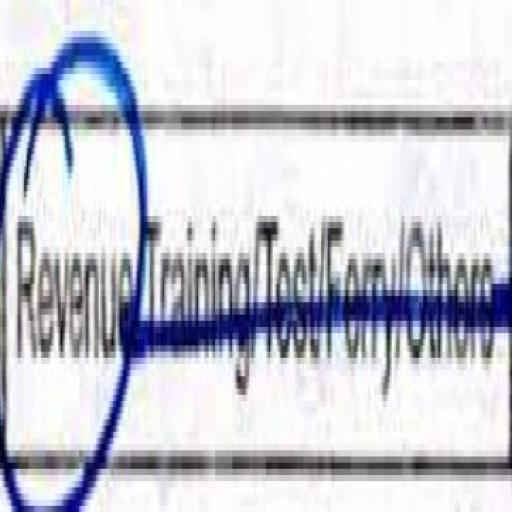check: (1, 0, 140, 512)
